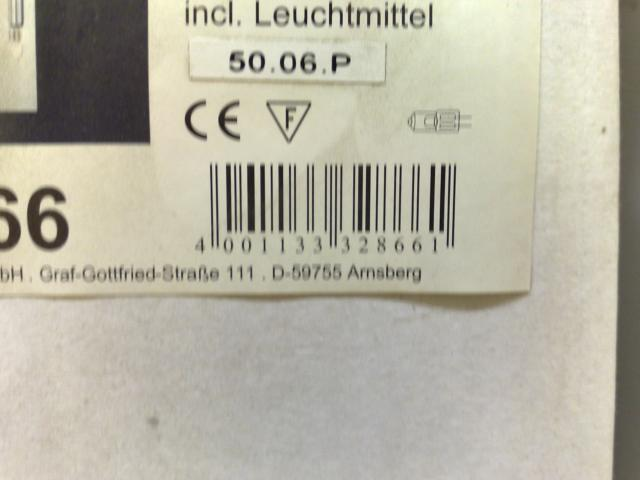Barcode: (185, 158, 462, 259)
